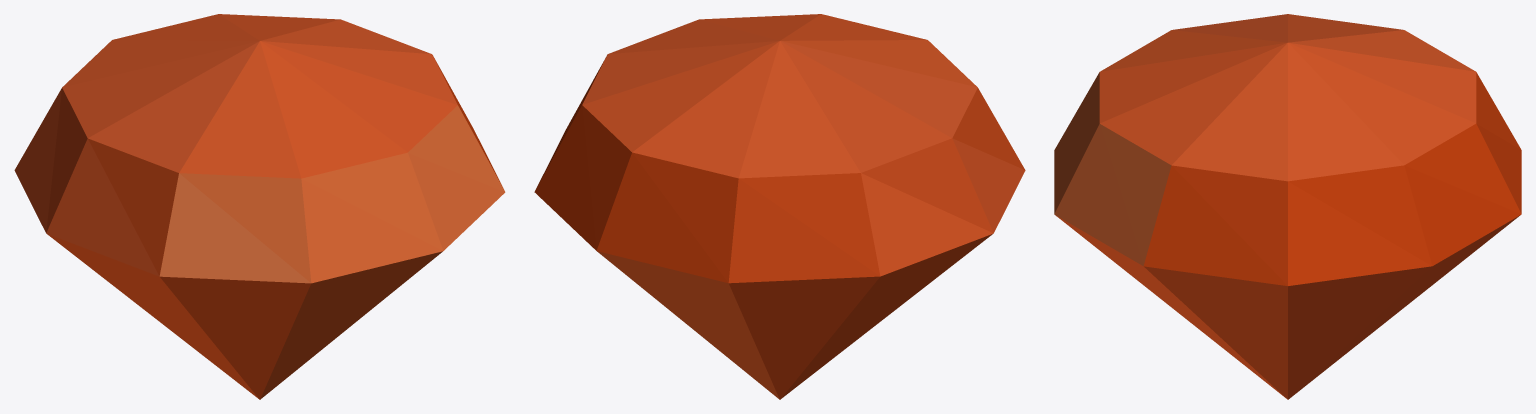
The model's file is prop_treasure_gem_ruby_2.fbx.
3 views of the same model, side by side, from view 1: azimuth 30°, elevation 25°; view 2: azimuth 150°, elevation 25°; view 3: azimuth 270°, elevation 25° (orthographic).
Visible parts, largest first — view 1: prop_treasure_gem_ruby_2; view 2: prop_treasure_gem_ruby_2; view 3: prop_treasure_gem_ruby_2.
Boxes of the visible parts, <box> form: prop_treasure_gem_ruby_2: <box>14,14,505,399</box>; prop_treasure_gem_ruby_2: <box>534,14,1025,399</box>; prop_treasure_gem_ruby_2: <box>1054,14,1521,399</box>.
Size of the model in its own units: 0.5011 by 0.4021 by 0.4766.
